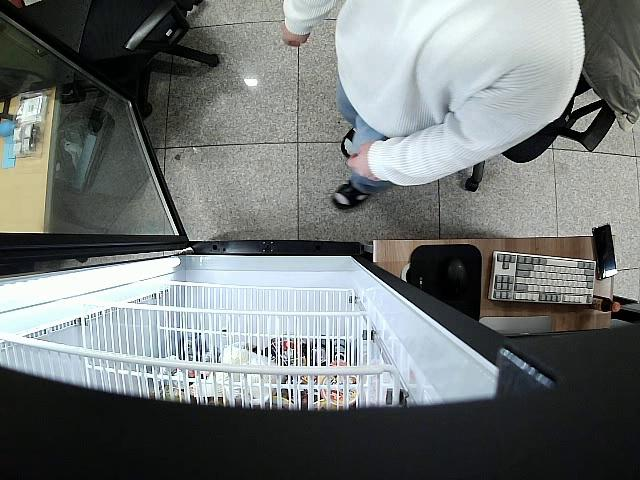00_hand: (345, 140, 385, 183), (279, 18, 311, 49)
